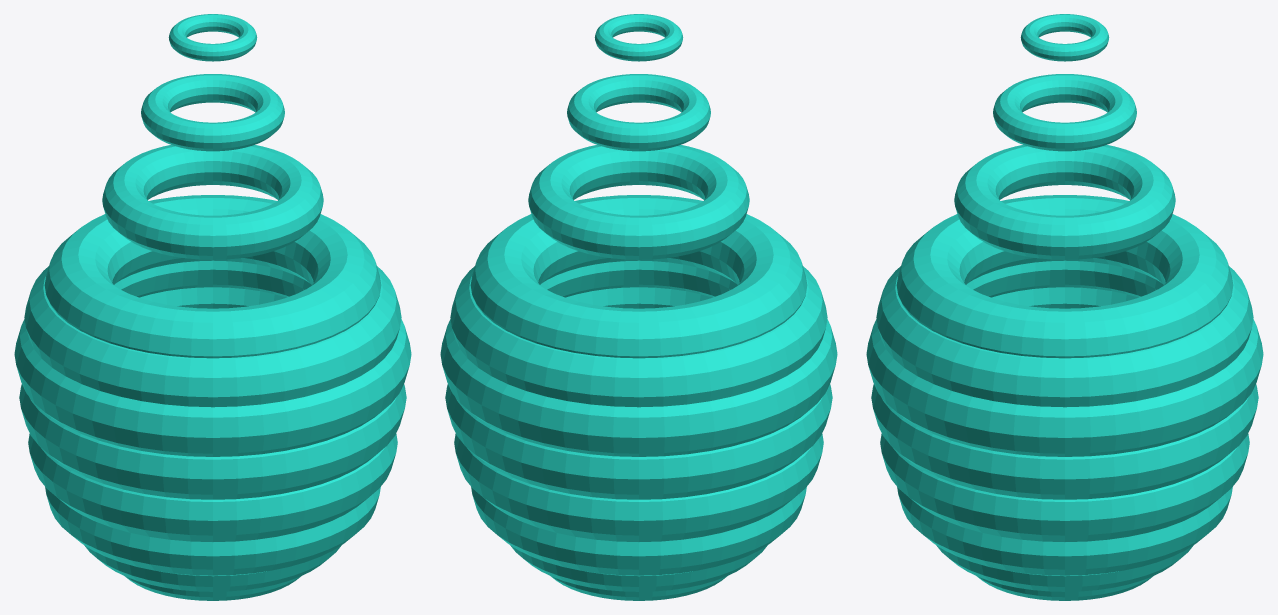
The model's file is LightRings.fbx.
3 views of the same model, side by side, from view 1: azimuth 30°, elevation 25°; view 2: azimuth 150°, elevation 25°; view 3: azimuth 270°, elevation 25° (orthographic).
Parts seen in each view (by area): view 1: Torus.002; view 2: Torus.002; view 3: Torus.002.
Part boxes in pixels (x1,y1,x2,y2): Torus.002: (14, 14, 411, 600); Torus.002: (440, 14, 837, 600); Torus.002: (866, 14, 1263, 600).
Size of the model in its own units: 113 by 173 by 113.
